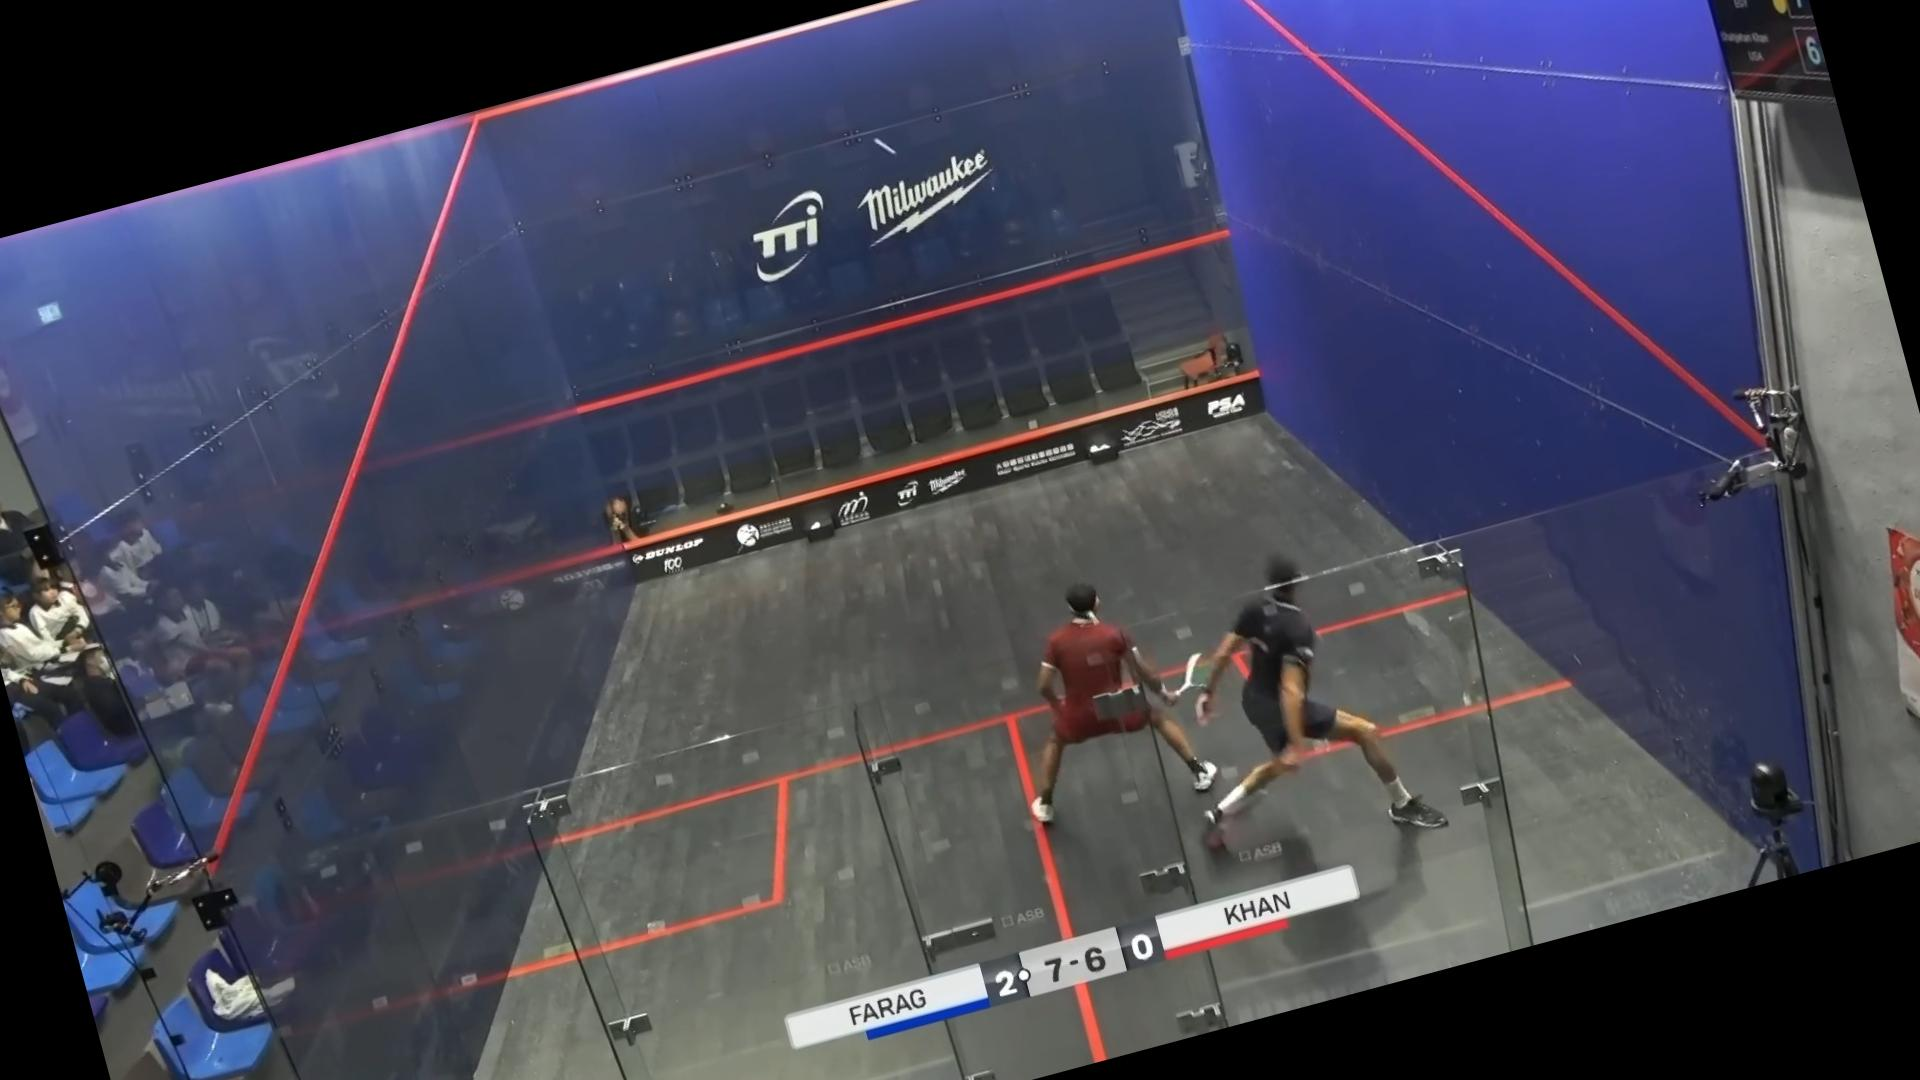Racket: (1139, 640, 1220, 703)
